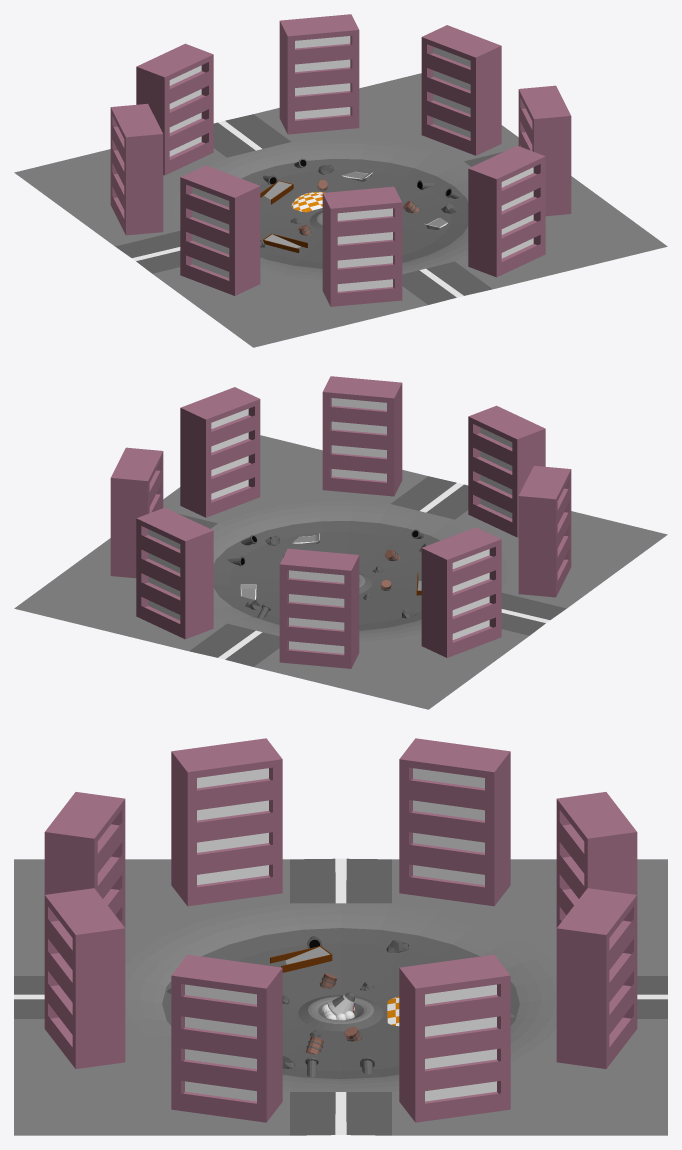
File: UrbanArena.fbx
3 renders of one model, top to bottom at view 1: azimuth 30°, elevation 25°; view 2: azimuth 150°, elevation 25°; view 3: azimuth 270°, elevation 25°, orthographic. The views are drawn at different scales.
Visible parts, largest first — view 1: ArenaUrban, Panelak, Panelak.004, Panelak.003, Panelak.007, Panelak.005, Panelak.001, Panelak.006, Panelak.002, Parachute, Ramp.004; view 2: ArenaUrban, Panelak.001, Panelak.005, Panelak.002, Panelak.006, Panelak, Panelak.004, Panelak.007, Panelak.003; view 3: ArenaUrban, Panelak.002, Panelak.003, Panelak.006, Panelak.007, Panelak, Panelak.005, Panelak.001, Panelak.004, Ramp.004.
Boxes of the visible parts, x1,y1,x2,y2 form: ArenaUrban: [14, 73, 667, 347]; Panelak: [279, 14, 359, 134]; Panelak.004: [322, 186, 402, 306]; Panelak.003: [421, 25, 501, 155]; Panelak.007: [180, 165, 260, 295]; Panelak.005: [468, 145, 545, 277]; Panelak.001: [136, 43, 213, 175]; Panelak.006: [110, 103, 163, 235]; Panelak.002: [518, 85, 571, 216]; Parachute: [291, 192, 325, 212]; Ramp.004: [263, 233, 307, 252]; ArenaUrban: [14, 435, 667, 709]; Panelak.001: [279, 548, 359, 668]; Panelak.005: [322, 376, 402, 496]; Panelak.002: [180, 387, 260, 517]; Panelak.006: [421, 527, 501, 657]; Panelak: [136, 507, 213, 639]; Panelak.004: [468, 405, 545, 537]; Panelak.007: [518, 465, 571, 597]; Panelak.003: [110, 447, 163, 578]; ArenaUrban: [14, 858, 667, 1135]; Panelak.002: [171, 954, 282, 1122]; Panelak.003: [399, 954, 510, 1122]; Panelak.006: [399, 738, 510, 906]; Panelak.007: [171, 738, 282, 906]; Panelak: [556, 888, 637, 1068]; Panelak.005: [44, 888, 125, 1068]; Panelak.001: [556, 792, 637, 927]; Panelak.004: [44, 792, 125, 927]; Ramp.004: [270, 946, 332, 972].
Size of the model in its own units: 29990 by 8076 by 29990.
